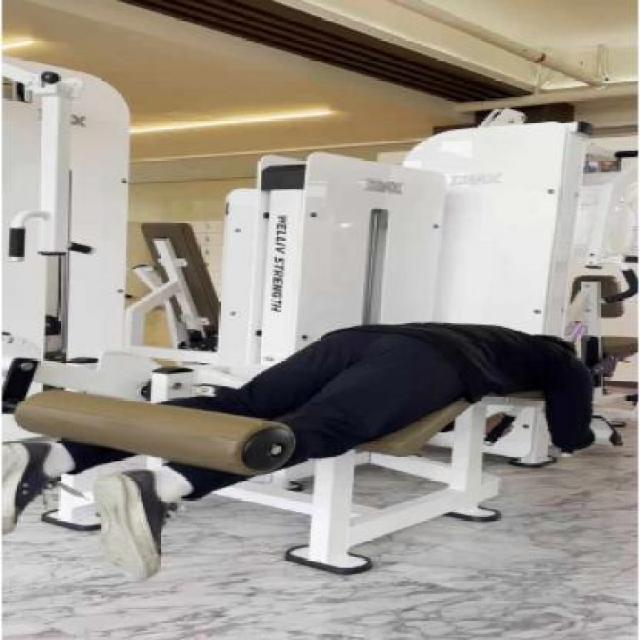reg curl machine: (0, 140, 635, 583)
